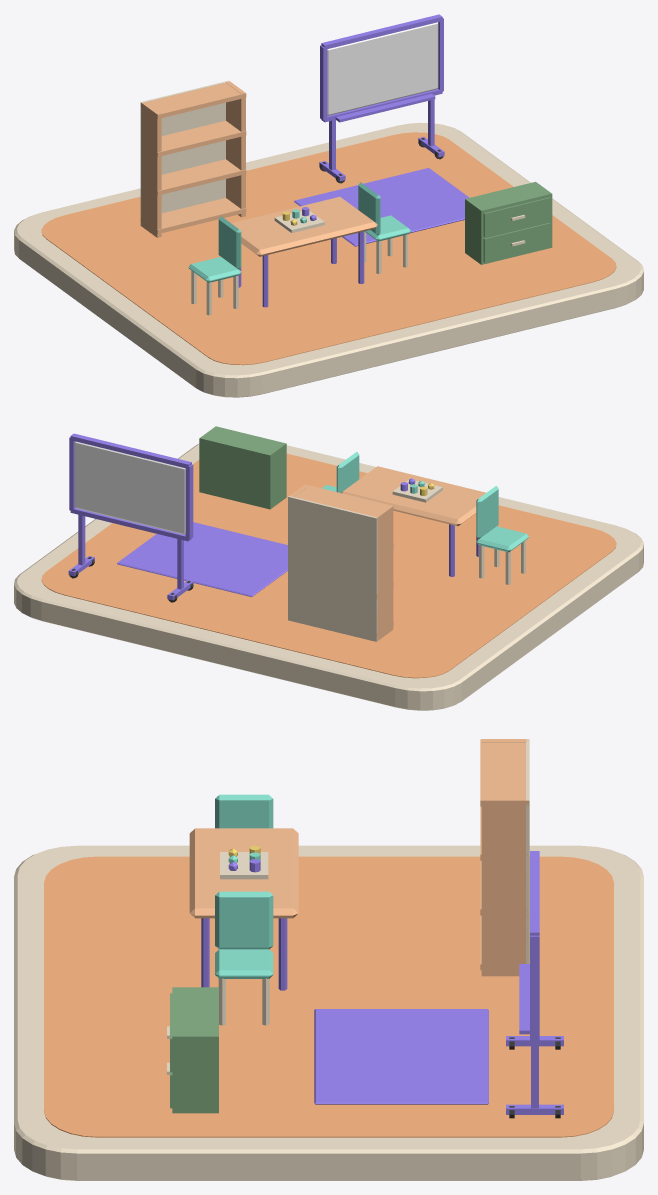
The model's file is room.fbx.
3 views of the same model, one above another, from view 1: azimuth 30°, elevation 25°; view 2: azimuth 150°, elevation 25°; view 3: azimuth 270°, elevation 25° (orthographic). The views are drawn at different scales.
Visible parts, largest first — view 1: COM-02 Floor Surface, COM-01 Rounded Base Direct, Writing surface, Cabinet, Rug, Back, Rounded table top, Side, Side.001, Shelf.003, Shelf.001, Shelf.002 (+8 smaller); view 2: COM-02 Floor Surface, COM-01 Rounded Base Direct, Back, Writing surface, Rug, Cabinet, Rounded table top, Side, Shelf.003, Frame rail.001, Backrest, Seat (+5 smaller); view 3: COM-02 Floor Surface, COM-01 Rounded Base Direct, Rug, Side.001, Rounded table top, Cabinet, Backrest.001, Shelf.003, Backrest, Seat.001, Frame upright.001, Activity board (+5 smaller).
Boxes of the visible parts, left/top/right/bottom form: COM-02 Floor Surface: left=41, top=132, right=616, bottom=365; COM-01 Rounded Base Direct: left=14, top=122, right=643, bottom=397; Writing surface: left=327, top=22, right=438, bottom=115; Cabinet: left=465, top=181, right=552, bottom=264; Rug: left=294, top=168, right=469, bottom=246; Back: left=140, top=80, right=229, bottom=225; Rounded table top: left=231, top=196, right=377, bottom=256; Side: left=141, top=102, right=161, bottom=237; Side.001: left=226, top=81, right=245, bottom=217; Shelf.003: left=140, top=83, right=246, bottom=118; Shelf.001: left=140, top=159, right=246, bottom=195; Shelf.002: left=141, top=120, right=246, bottom=156; COM-02 Floor Surface: left=41, top=453, right=616, bottom=678; COM-01 Rounded Base Direct: left=14, top=444, right=643, bottom=710; Back: left=288, top=496, right=377, bottom=641; Writing surface: left=74, top=441, right=185, bottom=534; Rug: left=117, top=522, right=287, bottom=596; Cabinet: left=199, top=426, right=286, bottom=509; Rounded table top: left=341, top=466, right=485, bottom=526; Side: left=373, top=505, right=393, bottom=640; Shelf.003: left=294, top=484, right=393, bottom=521; Frame rail.001: left=70, top=433, right=191, bottom=468; Backrest: left=476, top=486, right=498, bottom=538; Seat: left=476, top=526, right=528, bottom=552; COM-02 Floor Surface: left=44, top=856, right=613, bottom=1137; COM-01 Rounded Base Direct: left=14, top=845, right=643, bottom=1180; Rug: left=314, top=1009, right=488, bottom=1104; Side.001: left=481, top=797, right=527, bottom=976; Rounded table top: left=189, top=828, right=298, bottom=918; Cabinet: left=167, top=987, right=218, bottom=1113; Backrest.001: left=215, top=891, right=273, bottom=949; Shelf.003: left=480, top=739, right=528, bottom=806; Backrest: left=215, top=794, right=273, bottom=828; Seat.001: left=215, top=949, right=273, bottom=978; Frame upright.001: left=530, top=935, right=539, bottom=1039; Activity board: left=220, top=852, right=268, bottom=879.
Bounding box in the file's own units: 600 × 204 × 520.
